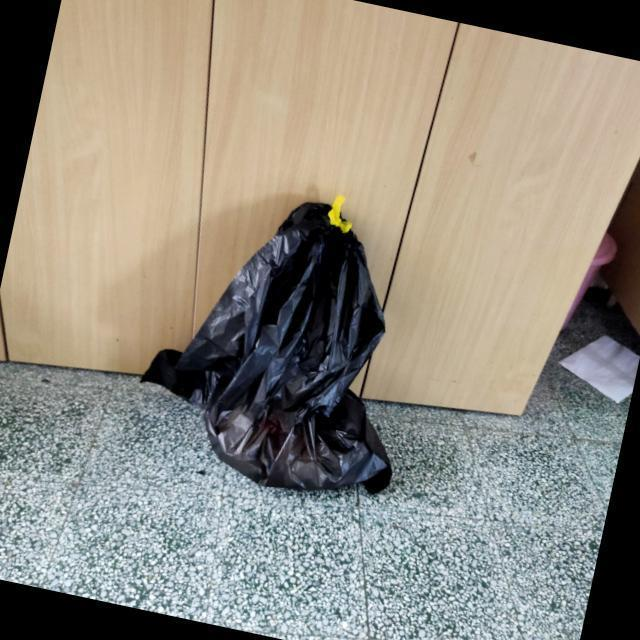garbage: (123, 130, 480, 534)
